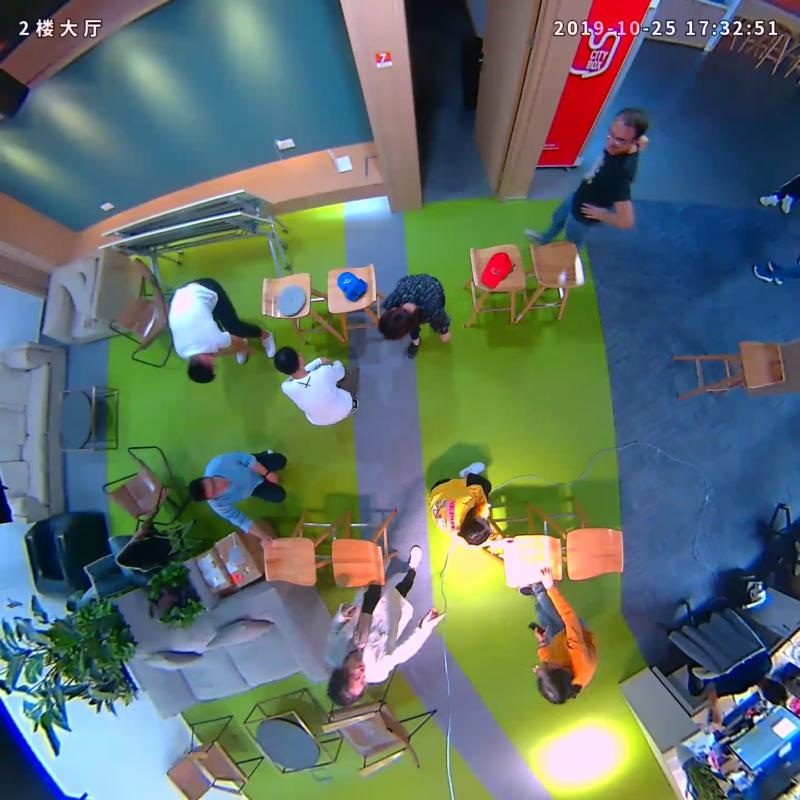head: (594, 104, 656, 157), (525, 661, 583, 713), (319, 654, 370, 708), (374, 299, 423, 343), (183, 466, 229, 507), (447, 511, 495, 550), (178, 351, 223, 389), (269, 343, 311, 377)
